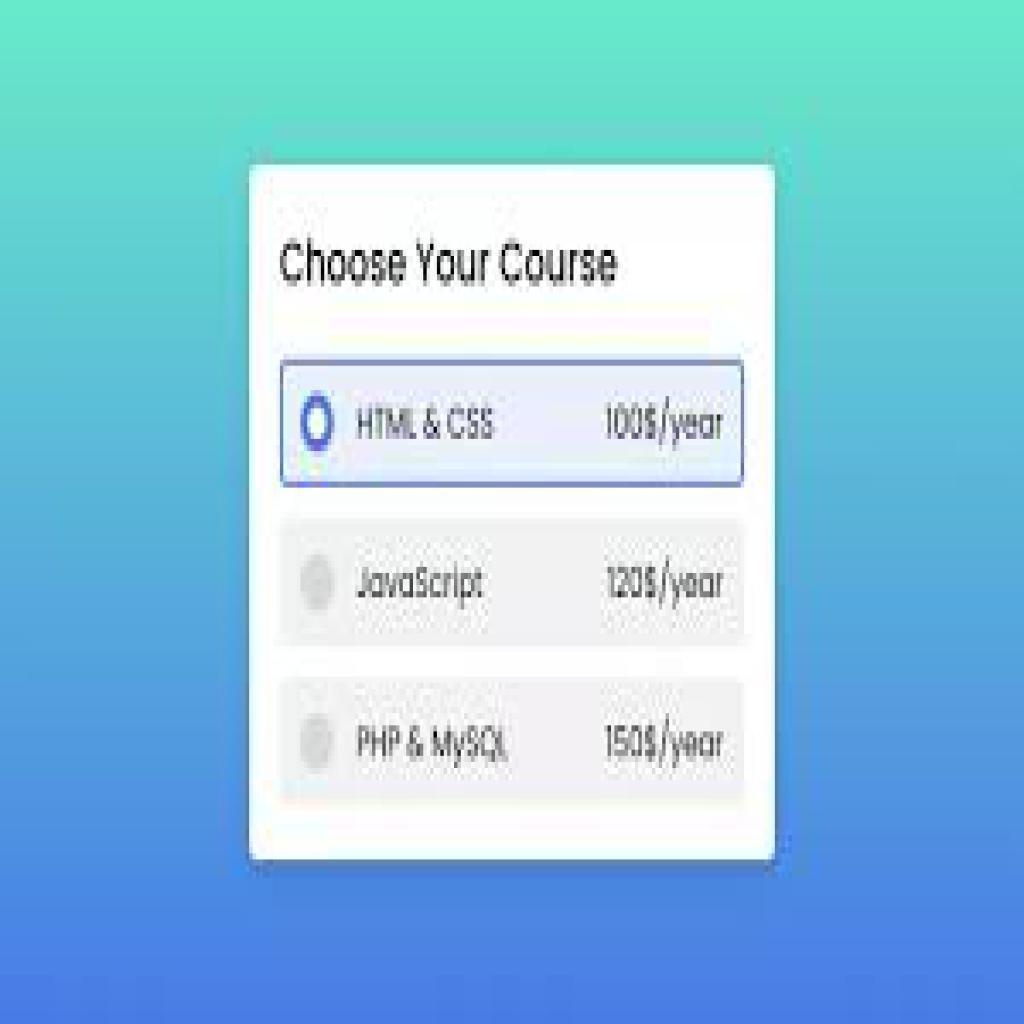label: (275, 235, 623, 306), (353, 716, 515, 775), (351, 396, 499, 446), (602, 716, 729, 771), (602, 560, 736, 609), (601, 400, 725, 449), (357, 565, 488, 607)
radio: (298, 381, 339, 465), (299, 712, 344, 777), (303, 555, 338, 616)
